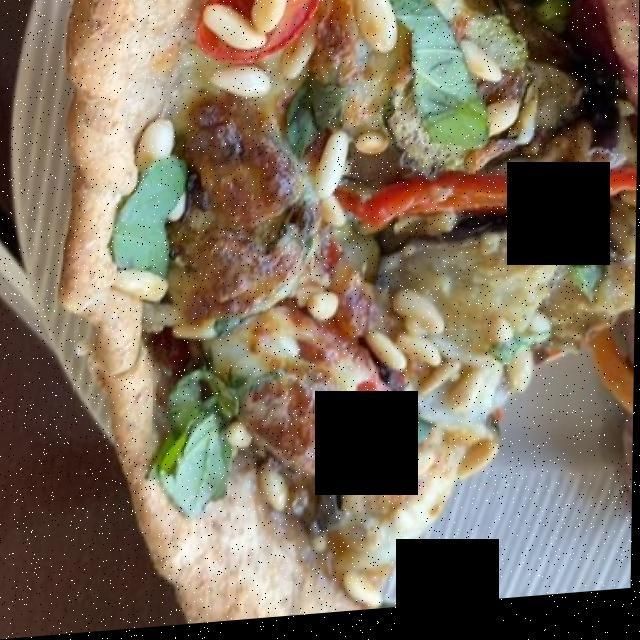basil: (110, 0, 503, 519)
